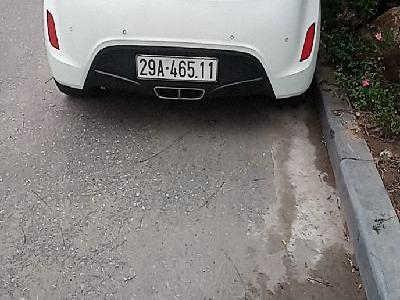lisence: (134, 52, 220, 85)
